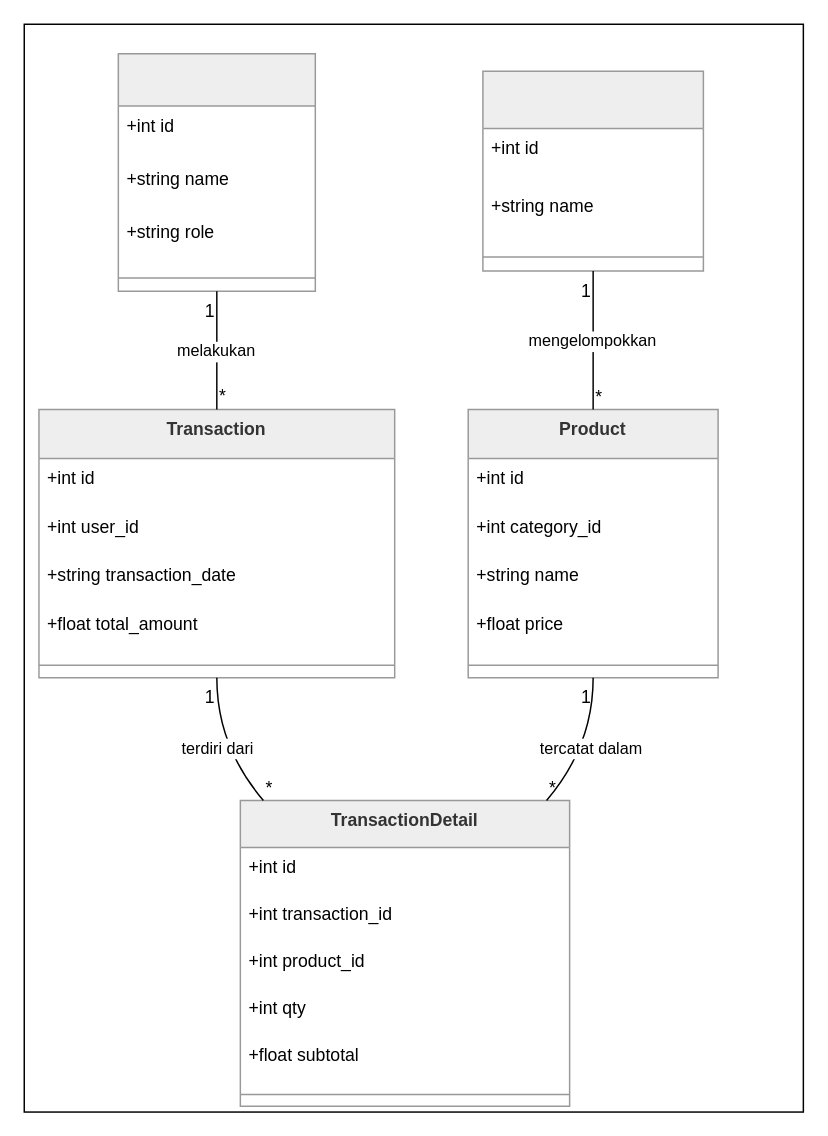
Some shapes in this 828 by 1136 pixel diagram are drawn without their labels. The box of each missing label's shape, as (x1, y1, x2, y2) in pixels:
Category: (481, 70, 703, 271)
User: (117, 52, 315, 291)
